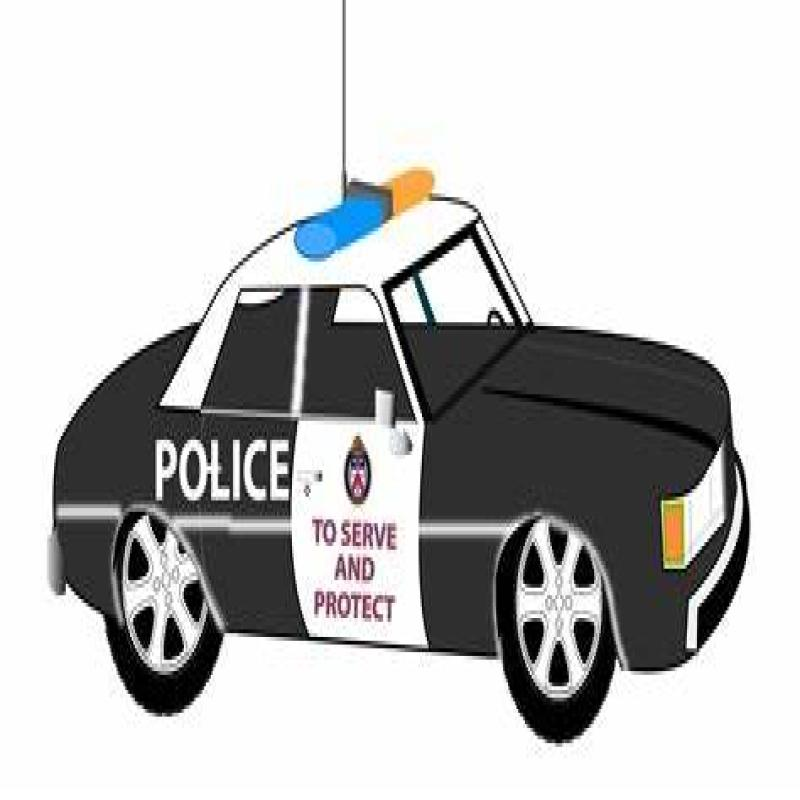AmbulanceSiren: (290, 157, 442, 256)
